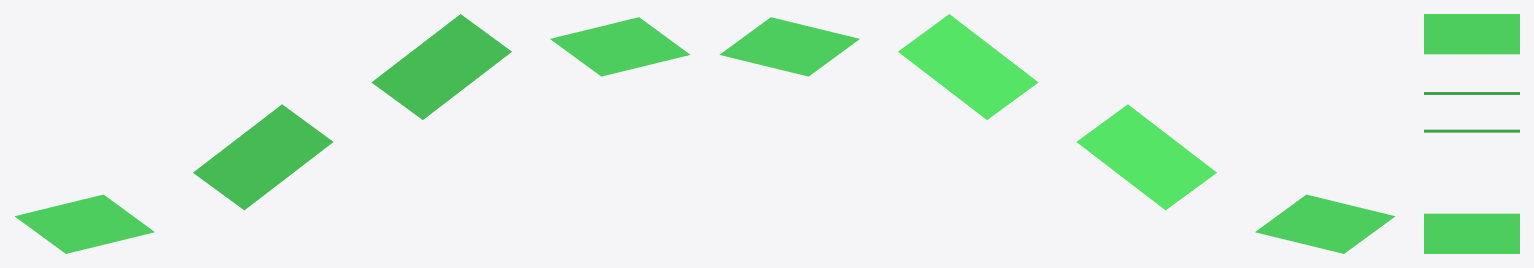
The model's file is tile_gridmap_meshes.glb.
3 views of the same model, side by side, from view 1: azimuth 30°, elevation 25°; view 2: azimuth 150°, elevation 25°; view 3: azimuth 270°, elevation 25° (orthographic). The views are drawn at different scales.
Parts seen in each view (by area): view 1: tall_plane_60-col, short_plane_60-col, plane2-col, plane-col; view 2: tall_plane_60-col, short_plane_60-col, plane2-col, plane-col; view 3: plane-col, plane2-col, tall_plane_60-col, short_plane_60-col.
Boxes of the visible parts, left/top/right/bottom form: tall_plane_60-col: left=371, top=14, right=511, bottom=119; short_plane_60-col: left=193, top=104, right=332, bottom=210; plane2-col: left=550, top=17, right=690, bottom=76; plane-col: left=15, top=194, right=154, bottom=253; tall_plane_60-col: left=898, top=14, right=1038, bottom=119; short_plane_60-col: left=1077, top=104, right=1216, bottom=210; plane2-col: left=719, top=17, right=859, bottom=76; plane-col: left=1255, top=194, right=1394, bottom=253; plane-col: left=1424, top=14, right=1519, bottom=54; plane2-col: left=1424, top=213, right=1519, bottom=253; tall_plane_60-col: left=1424, top=129, right=1519, bottom=132; short_plane_60-col: left=1424, top=92, right=1519, bottom=94.
Bounding box in the file's own units: 14 × 2 × 2.
